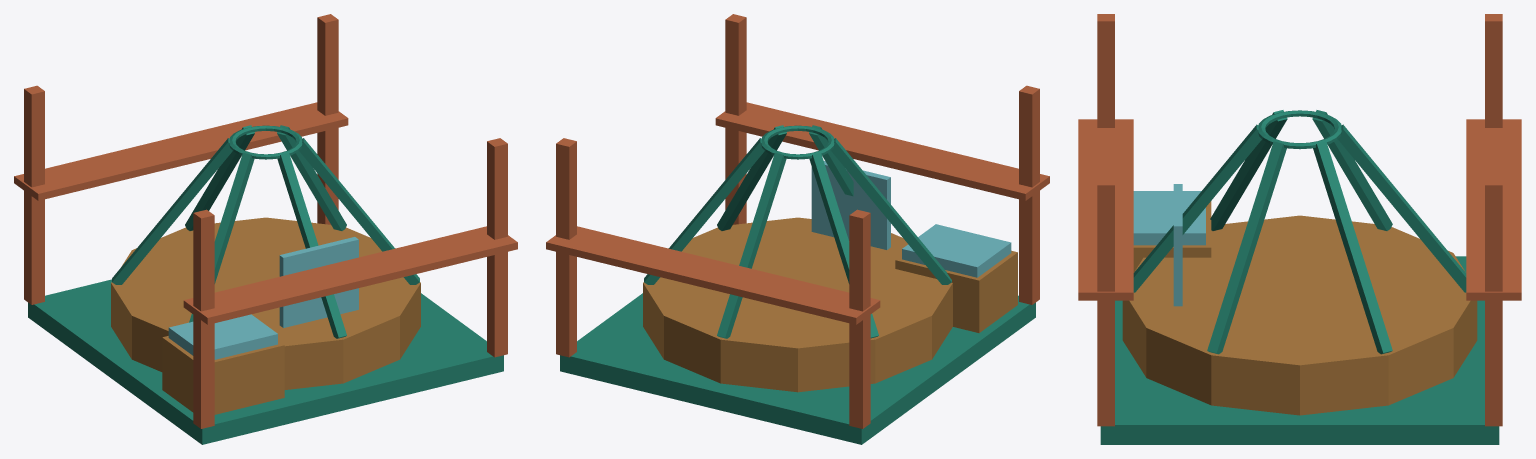
The model's file is greenhouse_site.gltf.
3 renders of one model, left to right at view 1: azimuth 30°, elevation 25°; view 2: azimuth 150°, elevation 25°; view 3: azimuth 270°, elevation 25°, orthographic. The views are drawn at different scales.
Visible parts, largest first — view 1: wall, floor, rib, walk_front, walk_back, crate, post_b, post_a, post_c, post_d, pane_set, panes (+1 smaller); view 2: wall, floor, rib, walk_back, walk_front, post_a, post_b, post_d, crate, post_c, panes, pane_set (+1 smaller); view 3: wall, floor, rib, walk_front, walk_back, post_c, post_d, panes, post_a, post_b, pane_set, crown (+1 smaller).
Part boxes in pixels (bbox=[...]): wall: bbox=[111, 217, 420, 389]; floor: bbox=[28, 279, 503, 444]; rib: bbox=[112, 125, 419, 338]; walk_front: bbox=[183, 226, 517, 324]; walk_back: bbox=[14, 102, 348, 200]; crate: bbox=[162, 336, 284, 414]; post_b: bbox=[193, 209, 214, 428]; post_a: bbox=[24, 85, 44, 304]; post_c: bbox=[487, 138, 507, 357]; post_d: bbox=[317, 14, 338, 224]; pane_set: bbox=[279, 237, 358, 327]; panes: bbox=[168, 314, 277, 359]; wall: bbox=[643, 217, 952, 392]; floor: bbox=[560, 293, 1035, 444]; rib: bbox=[644, 125, 951, 338]; walk_back: bbox=[546, 226, 880, 324]; walk_front: bbox=[715, 102, 1049, 200]; post_a: bbox=[849, 209, 870, 428]; post_b: bbox=[1019, 85, 1039, 304]; post_d: bbox=[556, 138, 576, 357]; crate: bbox=[895, 250, 1017, 332]; post_c: bbox=[725, 14, 746, 224]; panes: bbox=[902, 224, 1011, 277]; pane_set: bbox=[811, 161, 890, 249]; wall: bbox=[1122, 215, 1477, 415]; floor: bbox=[1100, 256, 1499, 444]; rib: bbox=[1133, 110, 1466, 354]; walk_front: bbox=[1078, 119, 1133, 300]; walk_back: bbox=[1466, 119, 1521, 300]; post_c: bbox=[1097, 178, 1114, 426]; post_d: bbox=[1485, 178, 1502, 426]; panes: bbox=[1133, 191, 1205, 245]; post_a: bbox=[1485, 14, 1502, 127]; post_b: bbox=[1097, 14, 1114, 127]; pane_set: bbox=[1173, 184, 1182, 306]; crown: bbox=[1258, 110, 1341, 149].
Bounding box in the file's own units: 3.7 × 2.6 × 4.
